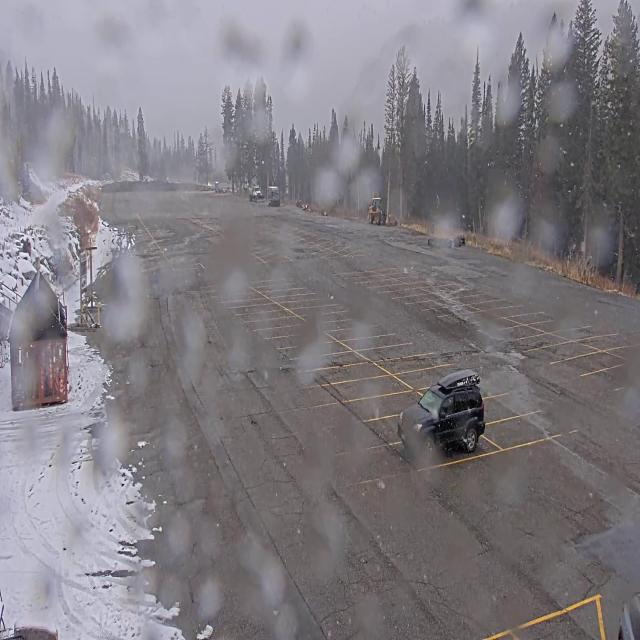available: (495, 410, 547, 439), (480, 389, 521, 413), (367, 389, 404, 415), (592, 361, 624, 390), (372, 410, 397, 442), (562, 354, 594, 378), (352, 374, 383, 395), (590, 331, 618, 353), (336, 360, 366, 380), (408, 366, 441, 384), (549, 342, 580, 361), (326, 347, 353, 367), (395, 354, 425, 370), (528, 333, 558, 348), (570, 325, 593, 342), (510, 322, 536, 337), (367, 332, 391, 348), (611, 342, 633, 359), (318, 341, 344, 355), (380, 343, 408, 355)
occupied: (404, 368, 487, 462)
